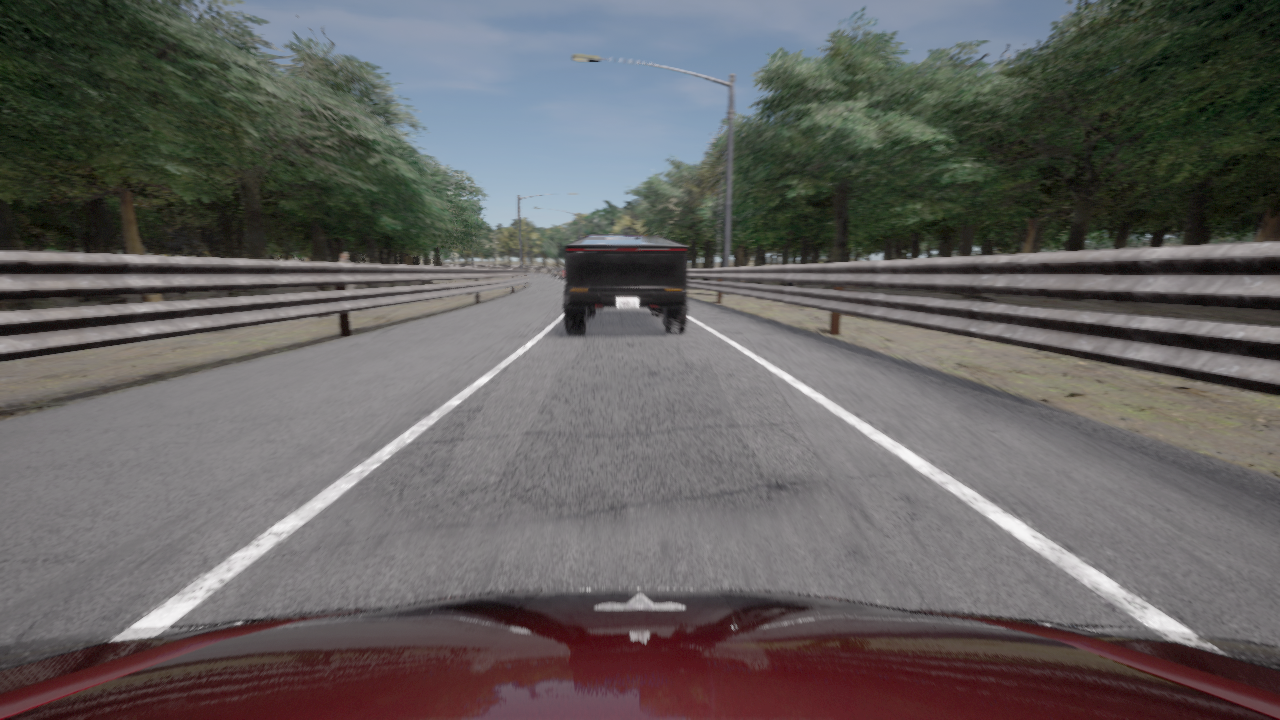cyclist: (0, 588, 1279, 719), (563, 235, 687, 334), (557, 266, 564, 279), (550, 268, 559, 277), (562, 261, 565, 280)
pedestrian: (338, 252, 356, 312)
